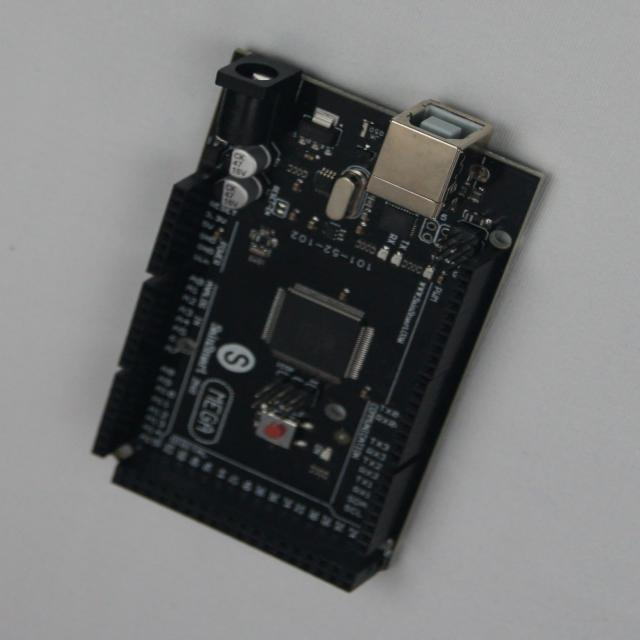Arduino Mega 2560 -Black-: (93, 51, 544, 592)
